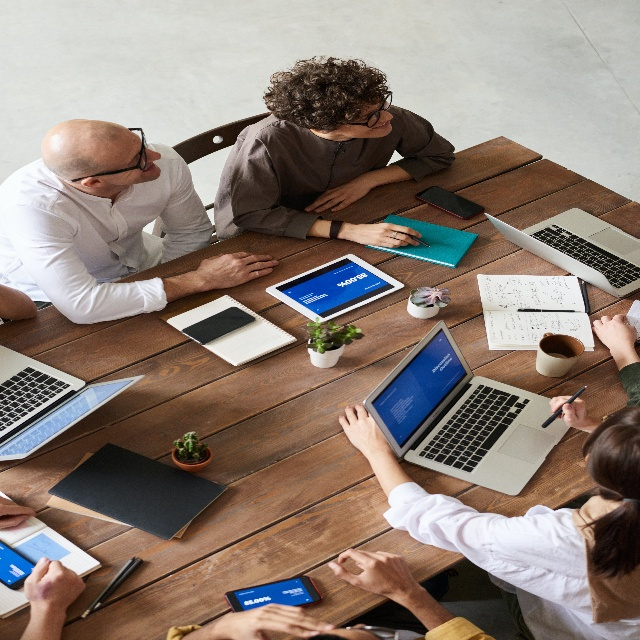Gafas: (80, 126, 148, 182), (337, 89, 394, 128)
Sin_guantes: (327, 549, 411, 598), (227, 603, 333, 640), (23, 556, 86, 612), (198, 250, 279, 291), (338, 403, 389, 457), (304, 175, 370, 213), (592, 313, 638, 356), (351, 222, 422, 249), (549, 394, 589, 430), (0, 496, 36, 531)
